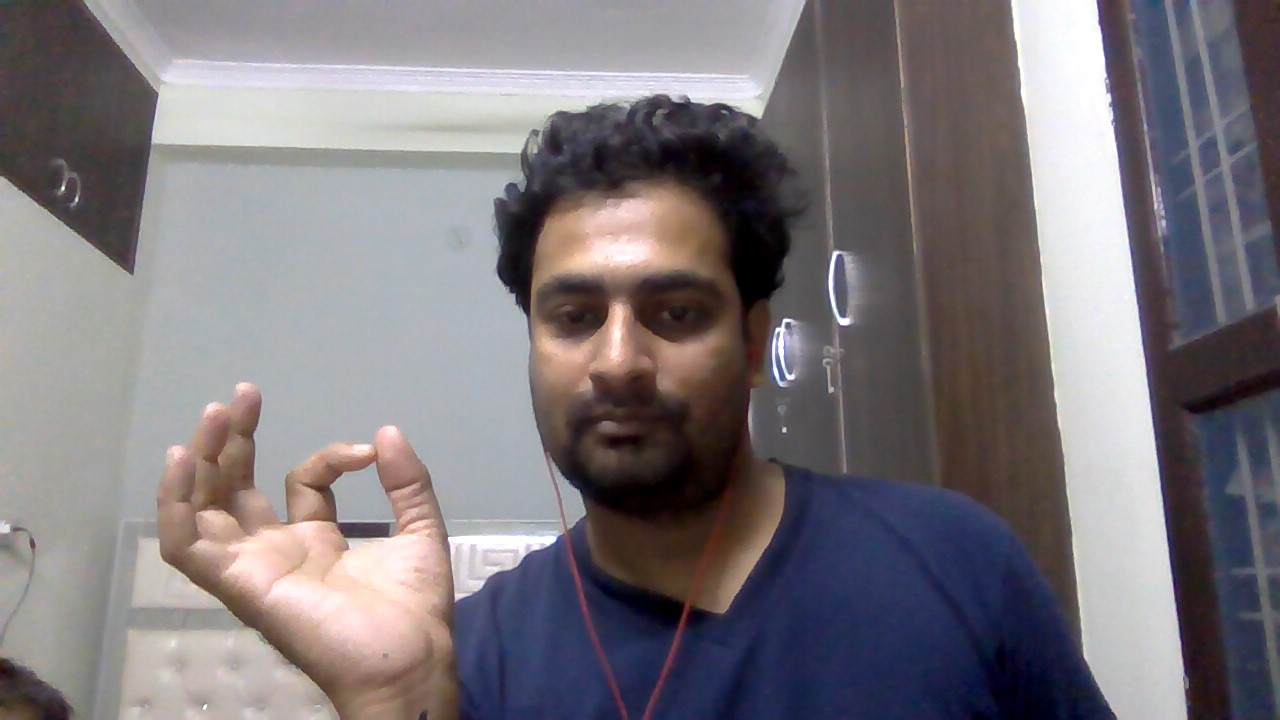Copy: (139, 375, 488, 675)
